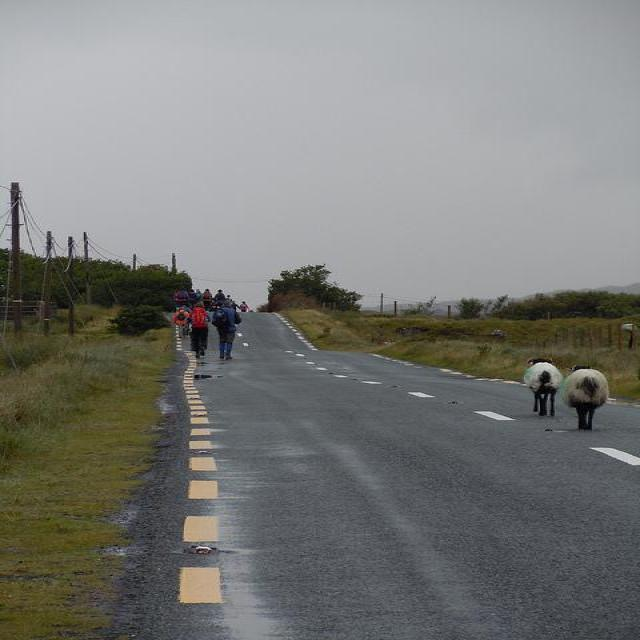Sheep: (560, 367, 609, 431), (522, 355, 566, 417)
